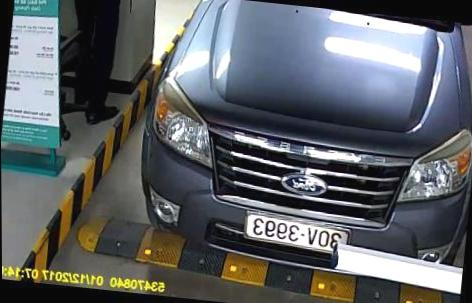License_Plate: (240, 212, 350, 253)
